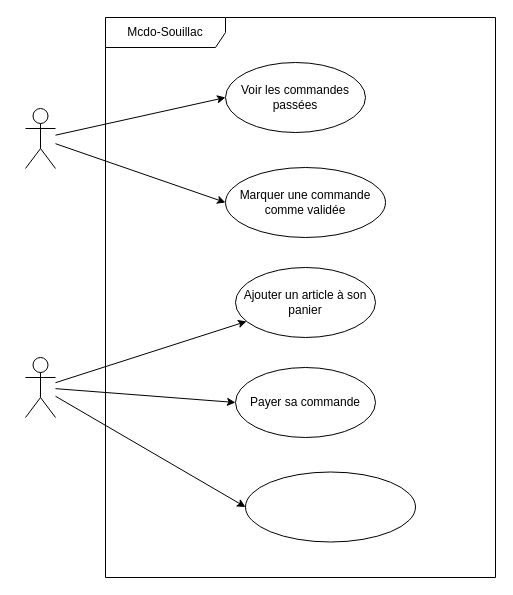
The diagram is 513 pixels wide and 595 high, and some of its shapes have lost their labels. Each missing label, with the centre of its shape:
Client: (40,387)
Employé: (40,138)
Modifier les articles de son panier en cas d'erreur: (330,506)
